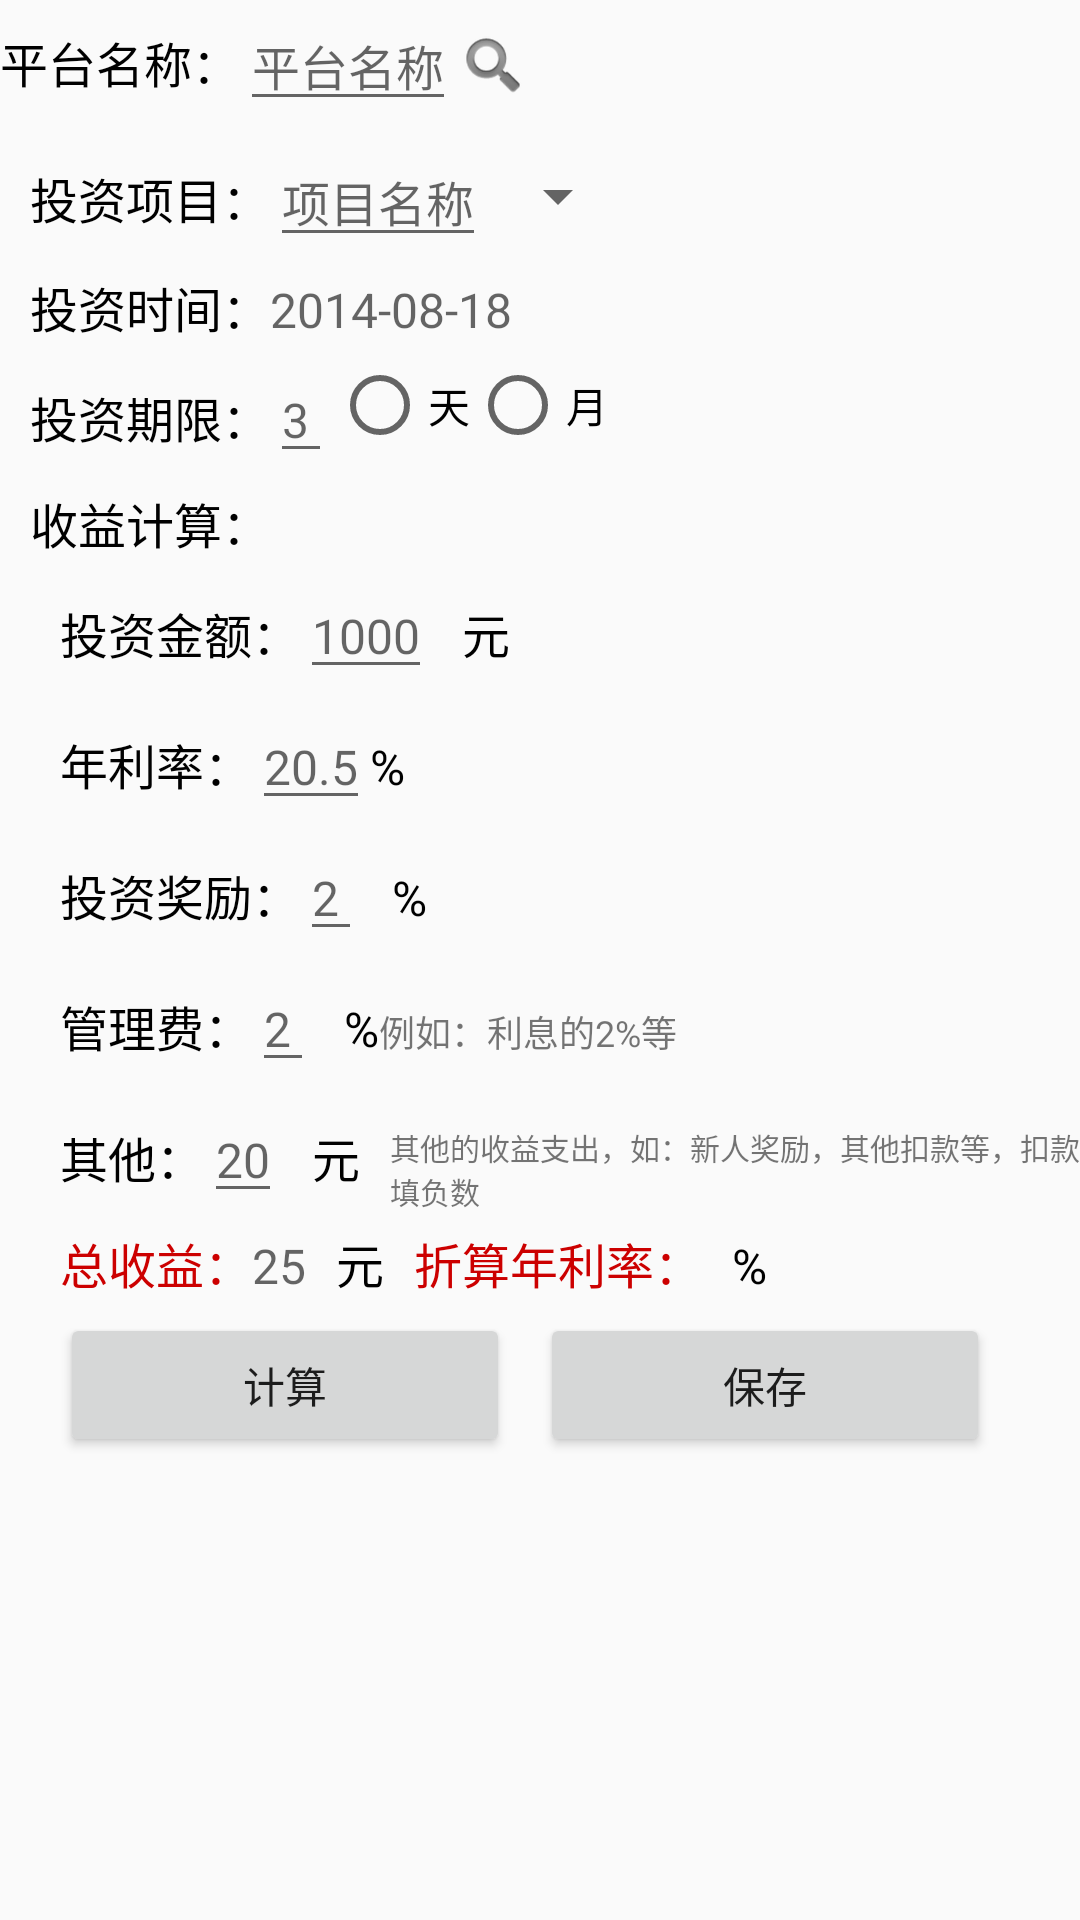

Where to tap for icons on this 1080px x 1920px app screen, as point (x, y):
search category: point (493, 65)
